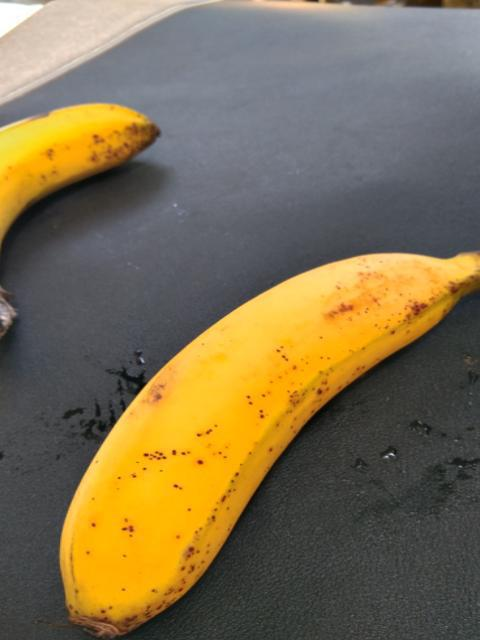ripe: (46, 243, 449, 639), (0, 71, 167, 292)
